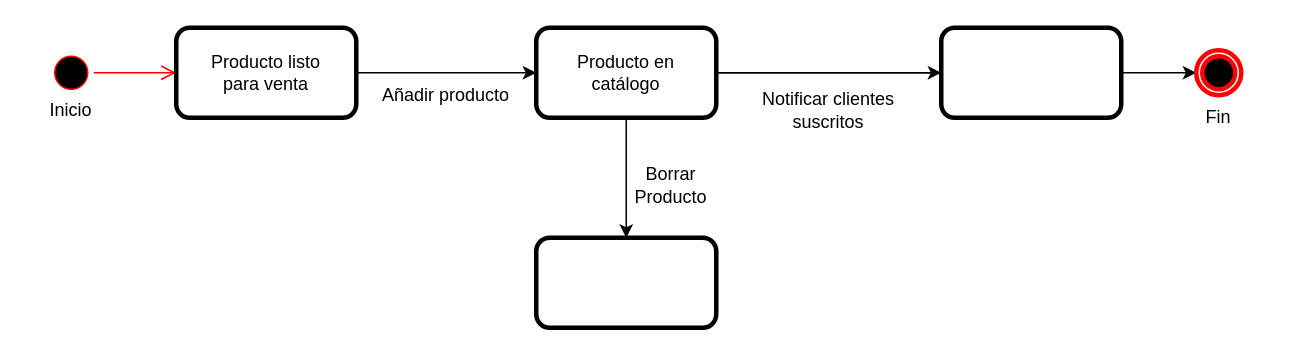
Some shapes in this 1289 by 356 pixel diagram are drawn without their labels. Here are the shapes that lost their labels. From the top down, the centre of each, then its label:
[1030,72]: Producto anunciado
[625,282]: Producto descatalogado
